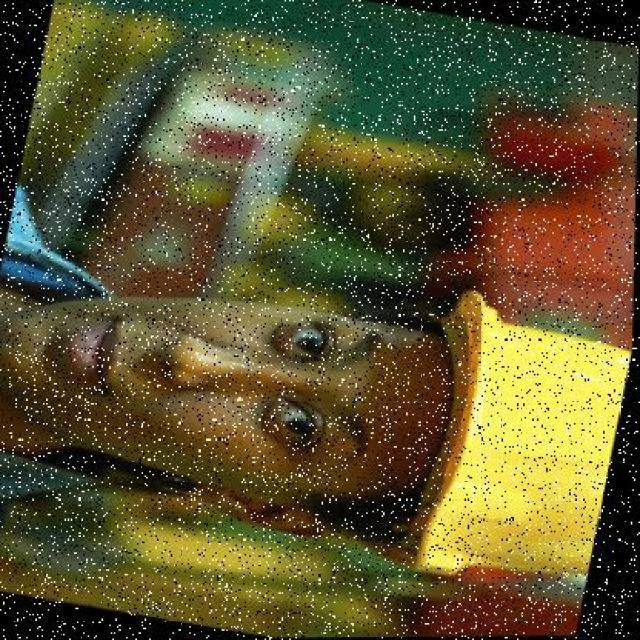helmet: (396, 280, 634, 608)
